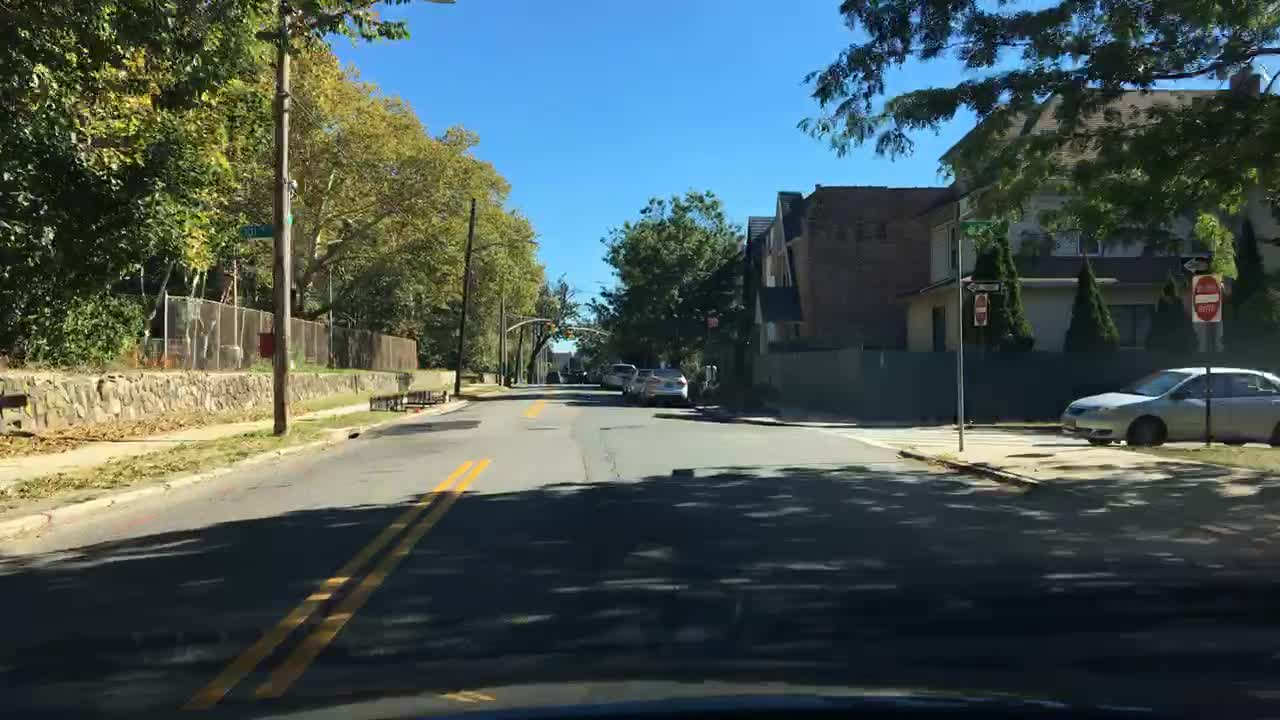car: (1060, 364, 1279, 448), (643, 368, 692, 404), (597, 361, 636, 389), (626, 366, 657, 396), (543, 369, 560, 386), (573, 370, 586, 381)
traffic light: (566, 324, 575, 338), (546, 320, 554, 334)
traffic sign: (1190, 274, 1220, 324), (235, 224, 277, 240), (1180, 254, 1212, 274), (973, 294, 989, 323), (963, 278, 999, 290)
